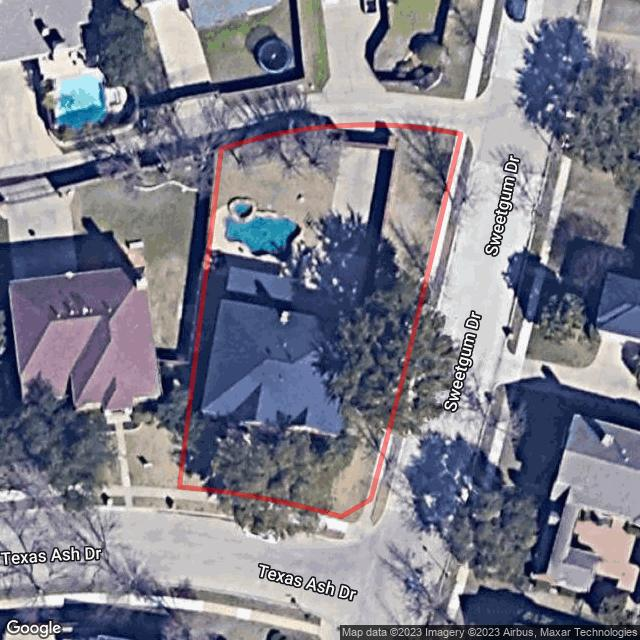Driveway: (225, 146, 381, 314)
Extra Lawn: (426, 139, 472, 306), (370, 435, 402, 524), (173, 500, 232, 518), (322, 529, 344, 541)
Extra Sidewalk: (319, 503, 374, 543), (176, 489, 222, 507)
House: (202, 300, 367, 441)
Other: (214, 198, 306, 269)
